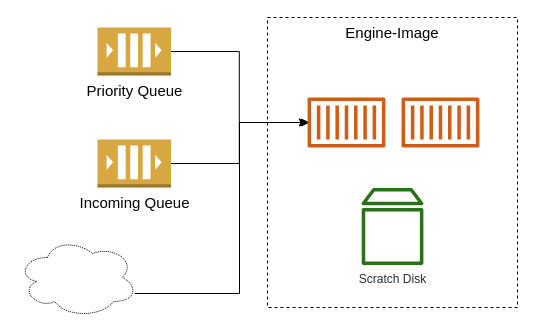
The diagram is 535 pixels wide and 335 high, and some of its shapes have lost their labels. Each missing label, with the centre of its shape:
"Engine" belongs at [346,122].
"Image-Processor" belongs at [440,122].
